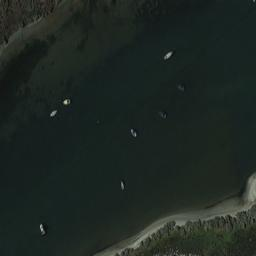boat: (38, 222, 46, 236), (163, 51, 173, 62), (175, 83, 185, 93), (157, 108, 166, 119), (129, 127, 137, 137), (119, 179, 125, 190), (49, 109, 56, 118), (63, 98, 70, 105)
